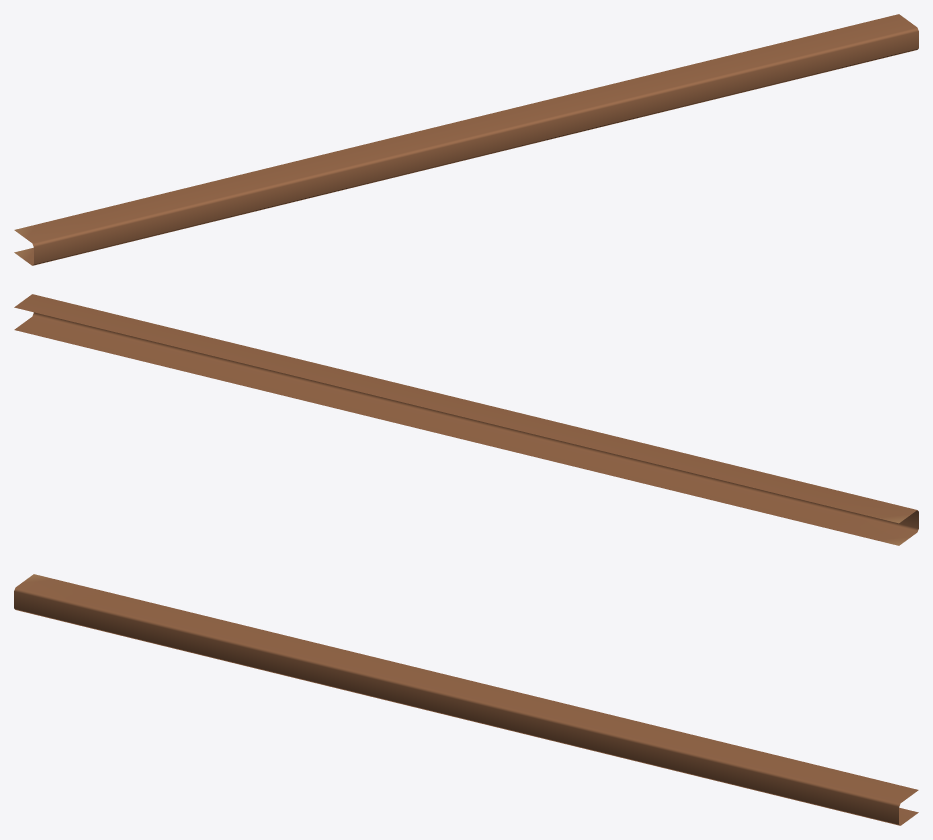
File: DBK_Trim_Extra_Full.fbx
3 renders of one model, top to bottom at view 1: azimuth 30°, elevation 25°; view 2: azimuth 150°, elevation 25°; view 3: azimuth 330°, elevation 25°, orthographic.
Visible parts, largest first — view 1: DBK_Trim_Extra_Full; view 2: DBK_Trim_Extra_Full; view 3: DBK_Trim_Extra_Full.
Boxes of the visible parts, x1,y1,x2,y2 form: DBK_Trim_Extra_Full: (14,14,918,265); DBK_Trim_Extra_Full: (14,294,918,545); DBK_Trim_Extra_Full: (14,574,918,825).
Size of the model in its own units: 300 by 7.28 by 11.69.
